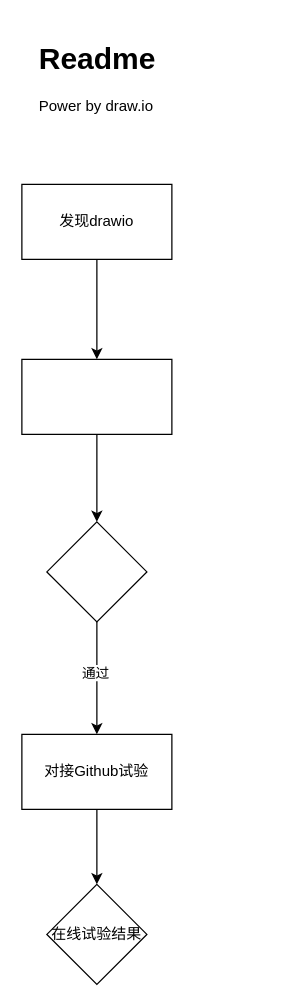
The diagram is 293 pixels wide and 1006 high, and some of its shapes have lost their labels. The centre of each missing label's shape, as x and y in pixels:
本地试用drawio: the point at 96,396
本地试验结果: the point at 96,571
